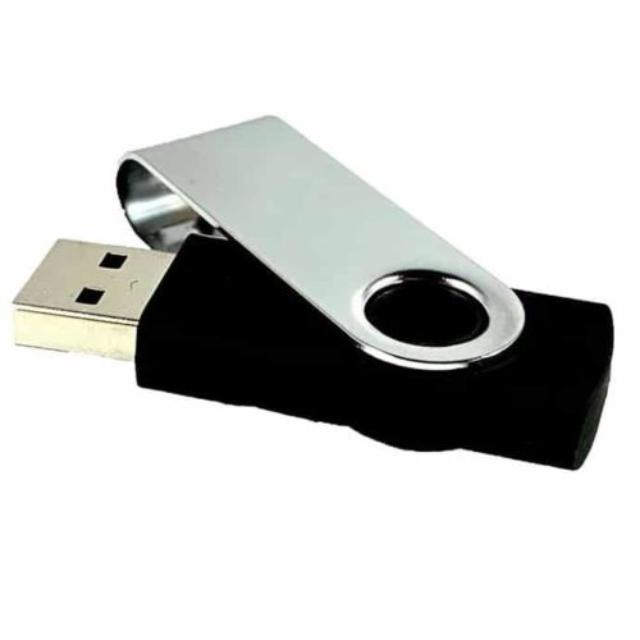USB-Flash-Drive: (12, 115, 616, 472)
